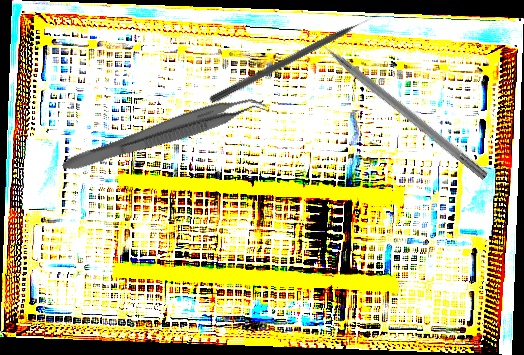Pusher: (303, 26, 491, 181), (208, 10, 383, 106)
Tissue Forceps: (59, 85, 271, 185)
